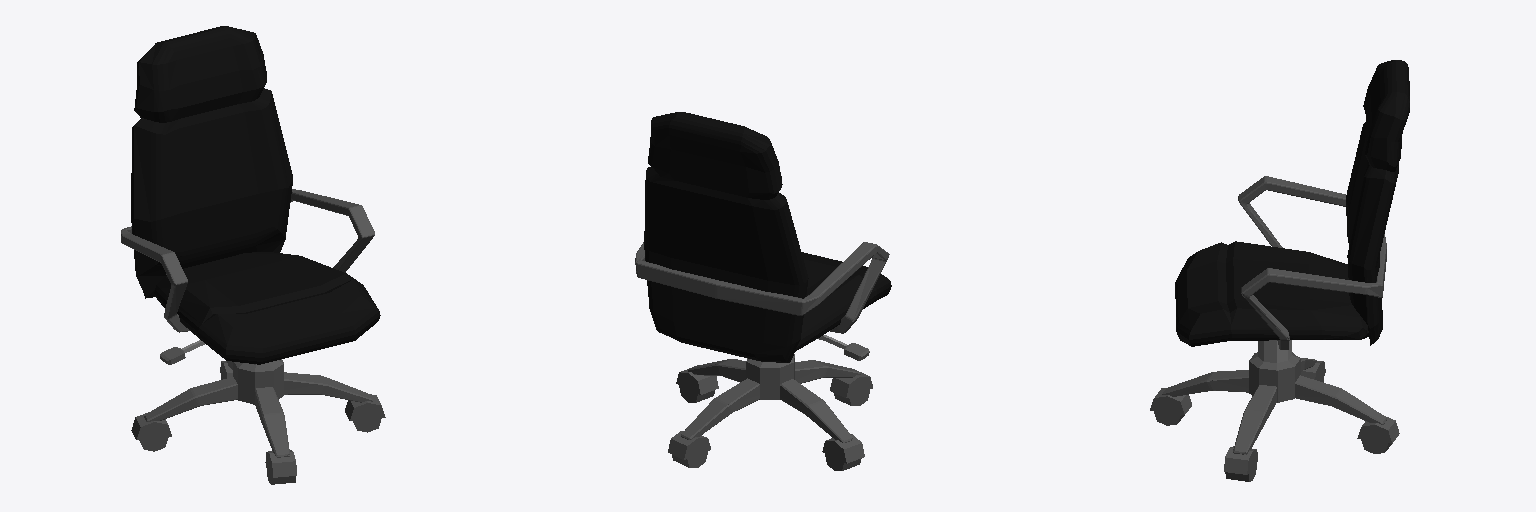
3 renders of one model, left to right at view 1: azimuth 30°, elevation 25°; view 2: azimuth 150°, elevation 25°; view 3: azimuth 270°, elevation 25°, orthographic.
Parts seen in each view (by area): view 1: Computer_Chair_SM_Prop_Chair_04_2.001; view 2: Computer_Chair_SM_Prop_Chair_04_2.001; view 3: Computer_Chair_SM_Prop_Chair_04_2.001.
Part boxes in pixels (bbox=[...]): Computer_Chair_SM_Prop_Chair_04_2.001: bbox=[121, 26, 385, 484]; Computer_Chair_SM_Prop_Chair_04_2.001: bbox=[635, 112, 891, 470]; Computer_Chair_SM_Prop_Chair_04_2.001: bbox=[1150, 60, 1409, 481].
Bounding box in the file's own units: 2.93 × 4.63 × 3.05.
1 materials, 1 textured.